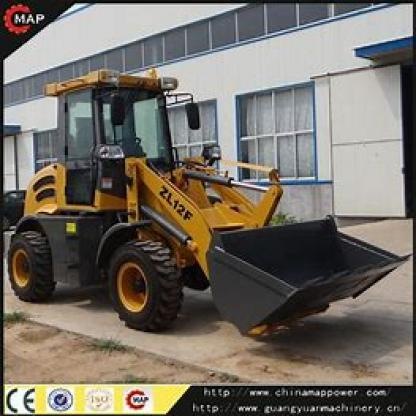bull_dozer/loader/grader: (9, 60, 402, 342)
